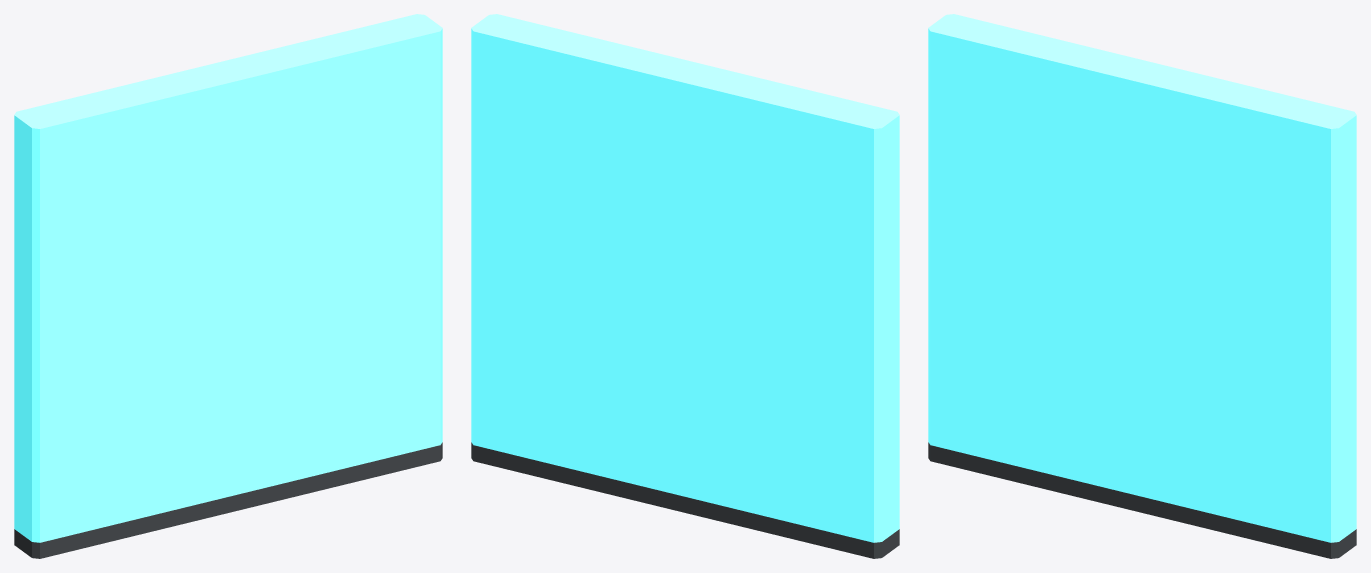
File: ENV_MOD_02_SolidWall.glb
The picture shows the model from 3 angles, left to right: view 1: azimuth 30°, elevation 25°; view 2: azimuth 150°, elevation 25°; view 3: azimuth 330°, elevation 25°; orthographic projection.
Visible parts, largest first — view 1: SM_ENV_MOD_02_SolidWall; view 2: SM_ENV_MOD_02_SolidWall; view 3: SM_ENV_MOD_02_SolidWall.
Boxes of the visible parts, x1,y1,x2,y2 form: SM_ENV_MOD_02_SolidWall: (14, 14, 442, 558); SM_ENV_MOD_02_SolidWall: (471, 14, 899, 558); SM_ENV_MOD_02_SolidWall: (928, 14, 1356, 558).
Size of the model in its own units: 4 by 4 by 0.4.
